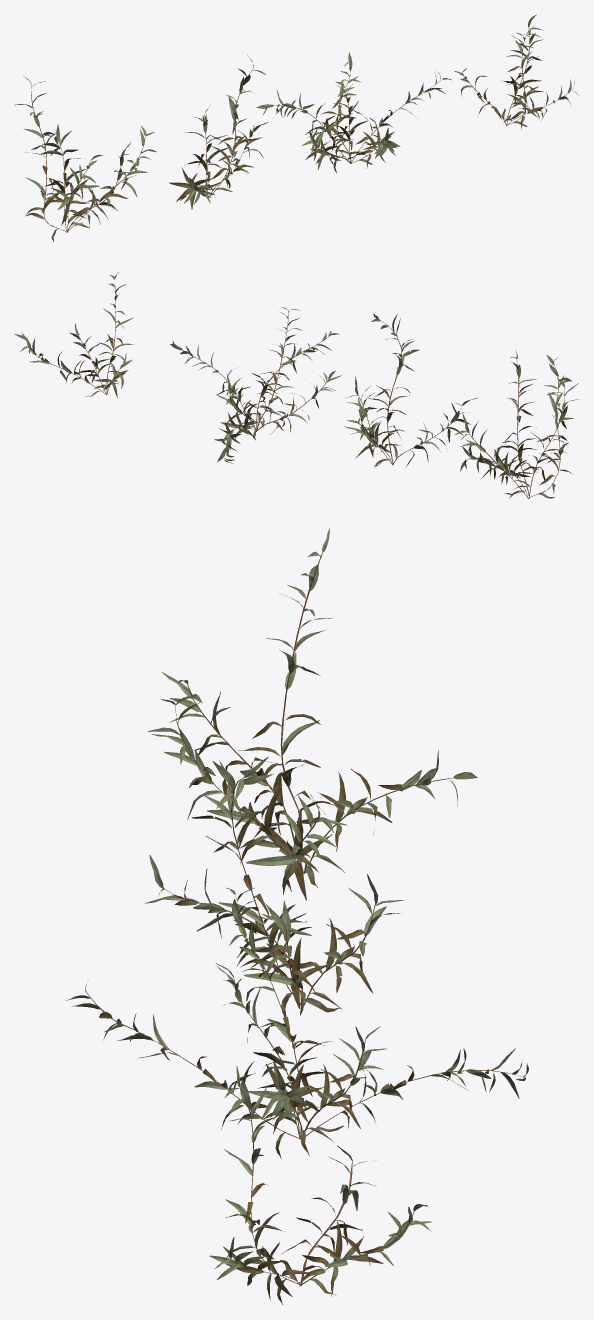
File: shrub_02.glb
3 views of the same model, one above another, from view 1: azimuth 30°, elevation 25°; view 2: azimuth 150°, elevation 25°; view 3: azimuth 270°, elevation 25° (orthographic). The views are drawn at different scales.
Parts seen in each view (by area): view 1: shrub_02_a, shrub_02_c, shrub_02_b, shrub_02_d; view 2: shrub_02_c, shrub_02_a, shrub_02_b, shrub_02_d; view 3: shrub_02_a, shrub_02_c, shrub_02_b, shrub_02_d.
Part boxes in pixels (box(x1,y1,x2,y2)): shrub_02_a: box(14, 76, 156, 241); shrub_02_c: box(256, 52, 452, 173); shrub_02_b: box(169, 54, 267, 209); shrub_02_d: box(454, 14, 578, 129); shrub_02_c: box(170, 307, 341, 463); shrub_02_a: box(454, 350, 578, 498); shrub_02_b: box(344, 313, 477, 467); shrub_02_d: box(14, 272, 133, 398); shrub_02_a: box(148, 528, 477, 900); shrub_02_c: box(66, 887, 528, 1158); shrub_02_b: box(145, 757, 403, 1017); shrub_02_d: box(209, 1066, 431, 1305).
Bounding box in the file's own units: 6.04 × 1.7 × 2.29.
Materials: 1 (1 with a texture image).
